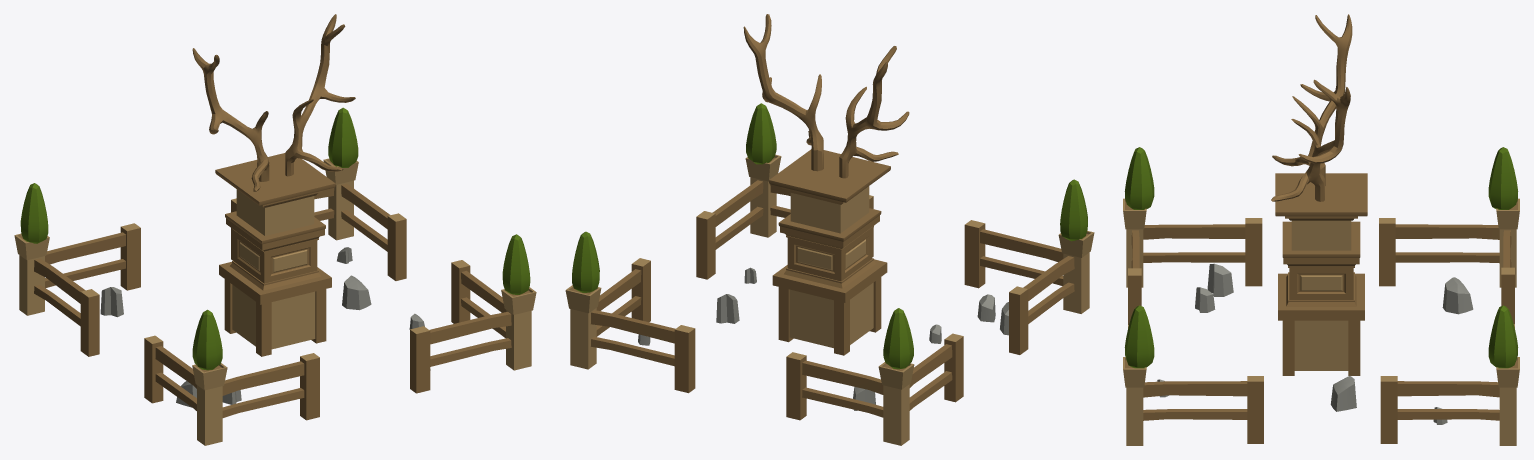
File: Town Center-CoERW5nFdE.glb
3 views of the same model, side by side, from view 1: azimuth 30°, elevation 25°; view 2: azimuth 150°, elevation 25°; view 3: azimuth 270°, elevation 25° (orthographic). The views are drawn at different scales.
Visible parts, largest first — view 1: Town Center-CoERW5nFdE; view 2: Town Center-CoERW5nFdE; view 3: Town Center-CoERW5nFdE.
Part boxes in pixels (left/top/right/bottom): Town Center-CoERW5nFdE: left=14, top=14, right=536, bottom=445; Town Center-CoERW5nFdE: left=565, top=14, right=1094, bottom=445; Town Center-CoERW5nFdE: left=1123, top=14, right=1519, bottom=445.
Bounding box in the file's own units: 1.26 × 1.09 × 1.24.
